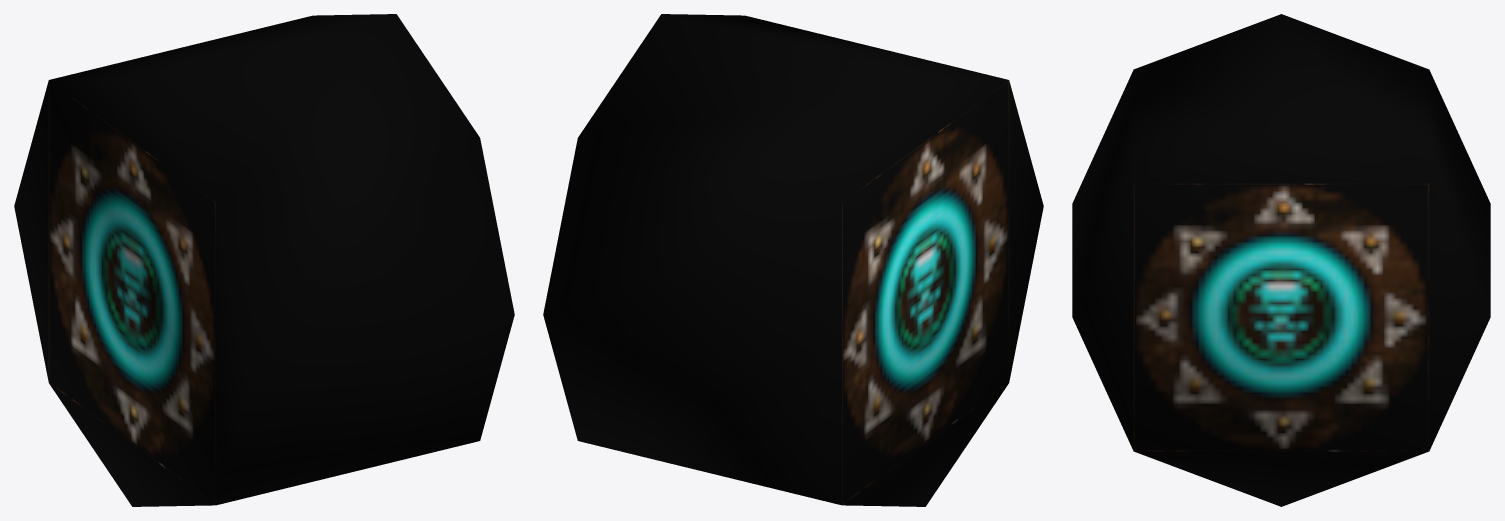
File: WheelRearL.obj
3 views of the same model, side by side, from view 1: azimuth 30°, elevation 25°; view 2: azimuth 150°, elevation 25°; view 3: azimuth 270°, elevation 25° (orthographic). The views are drawn at different scales.
Parts seen in each view (by area): view 1: WheelRearL; view 2: WheelRearL; view 3: WheelRearL.
Part boxes in pixels (x1=…): WheelRearL: x1=14, y1=14, x2=514, y2=506; WheelRearL: x1=543, y1=14, x2=1043, y2=506; WheelRearL: x1=1072, y1=14, x2=1490, y2=506.
Size of the model in its own units: 0.7999 by 1.24 by 1.24.
Materials: 2 (1 with a texture image).
